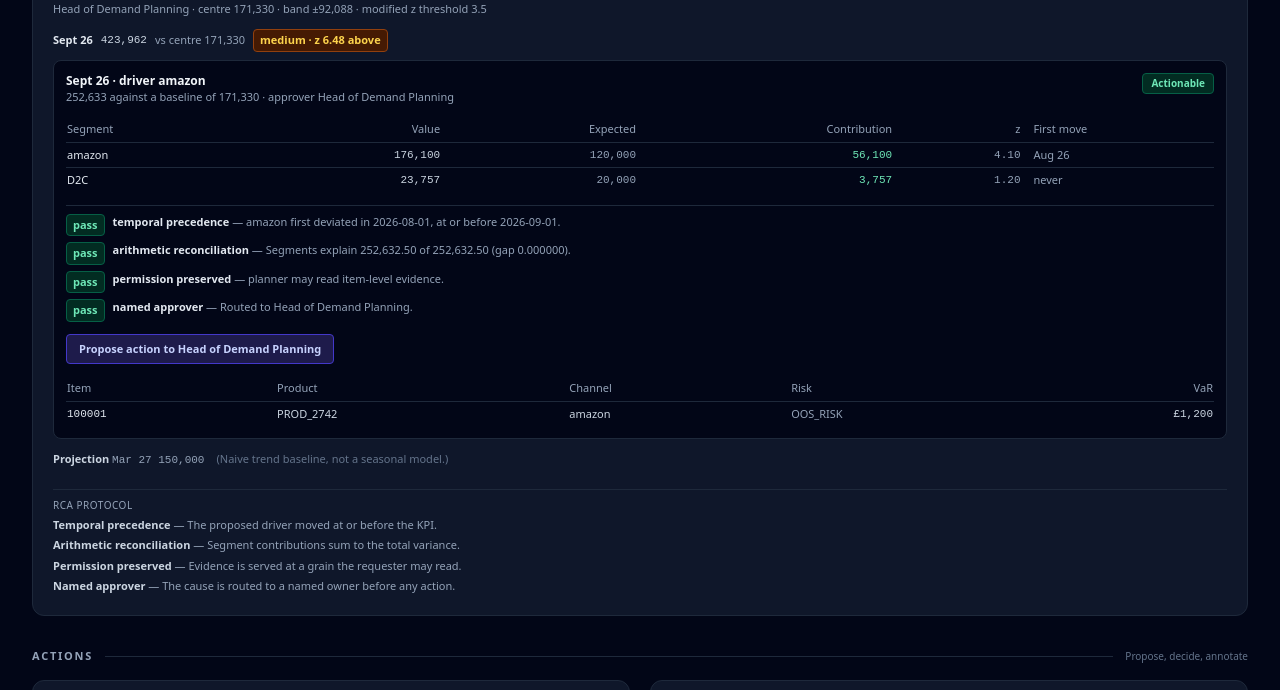
Scenario: BiPage › surfaces a refused proposal
This screenshot has width=1280, height=690.
(page scrolled)
Click the button with test id "bi-rca-propose-plan_qty-2026-09-01" at {"x": 200, "y": 349}, box [66,334,334,364]
(page scrolled)
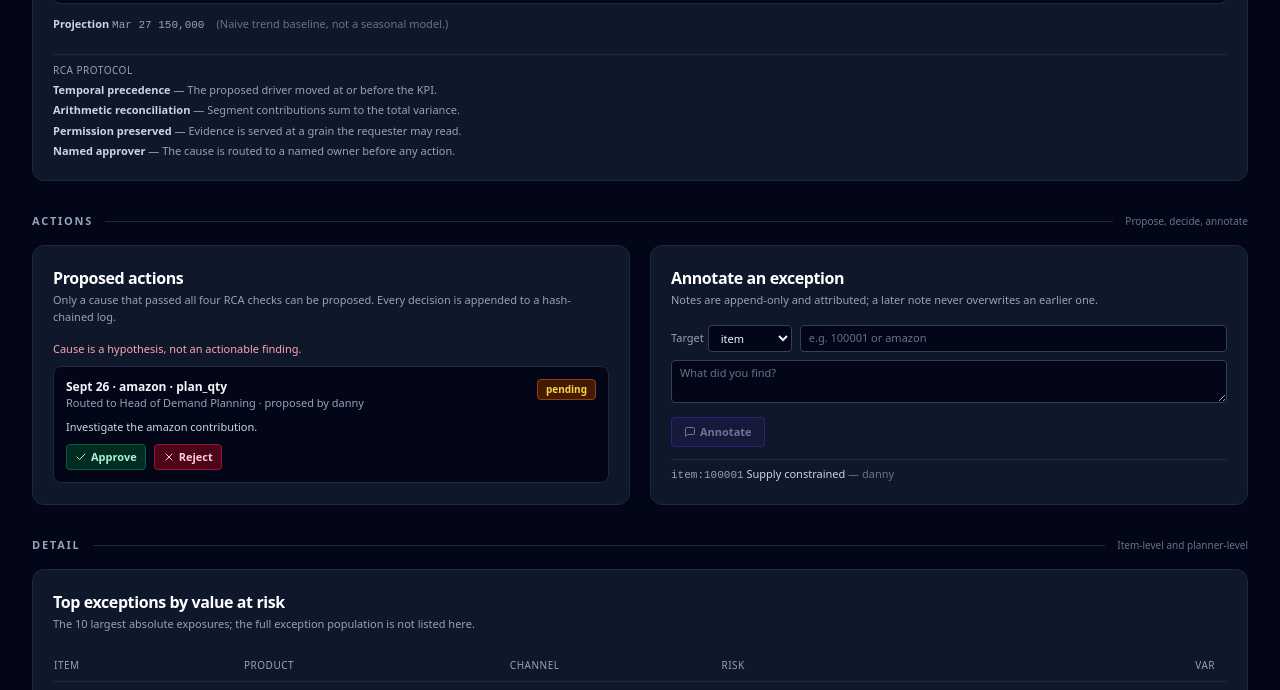
Expected: the text with test id "bi-writeback-error" shows "hypothesis", [53,341,301,356]
